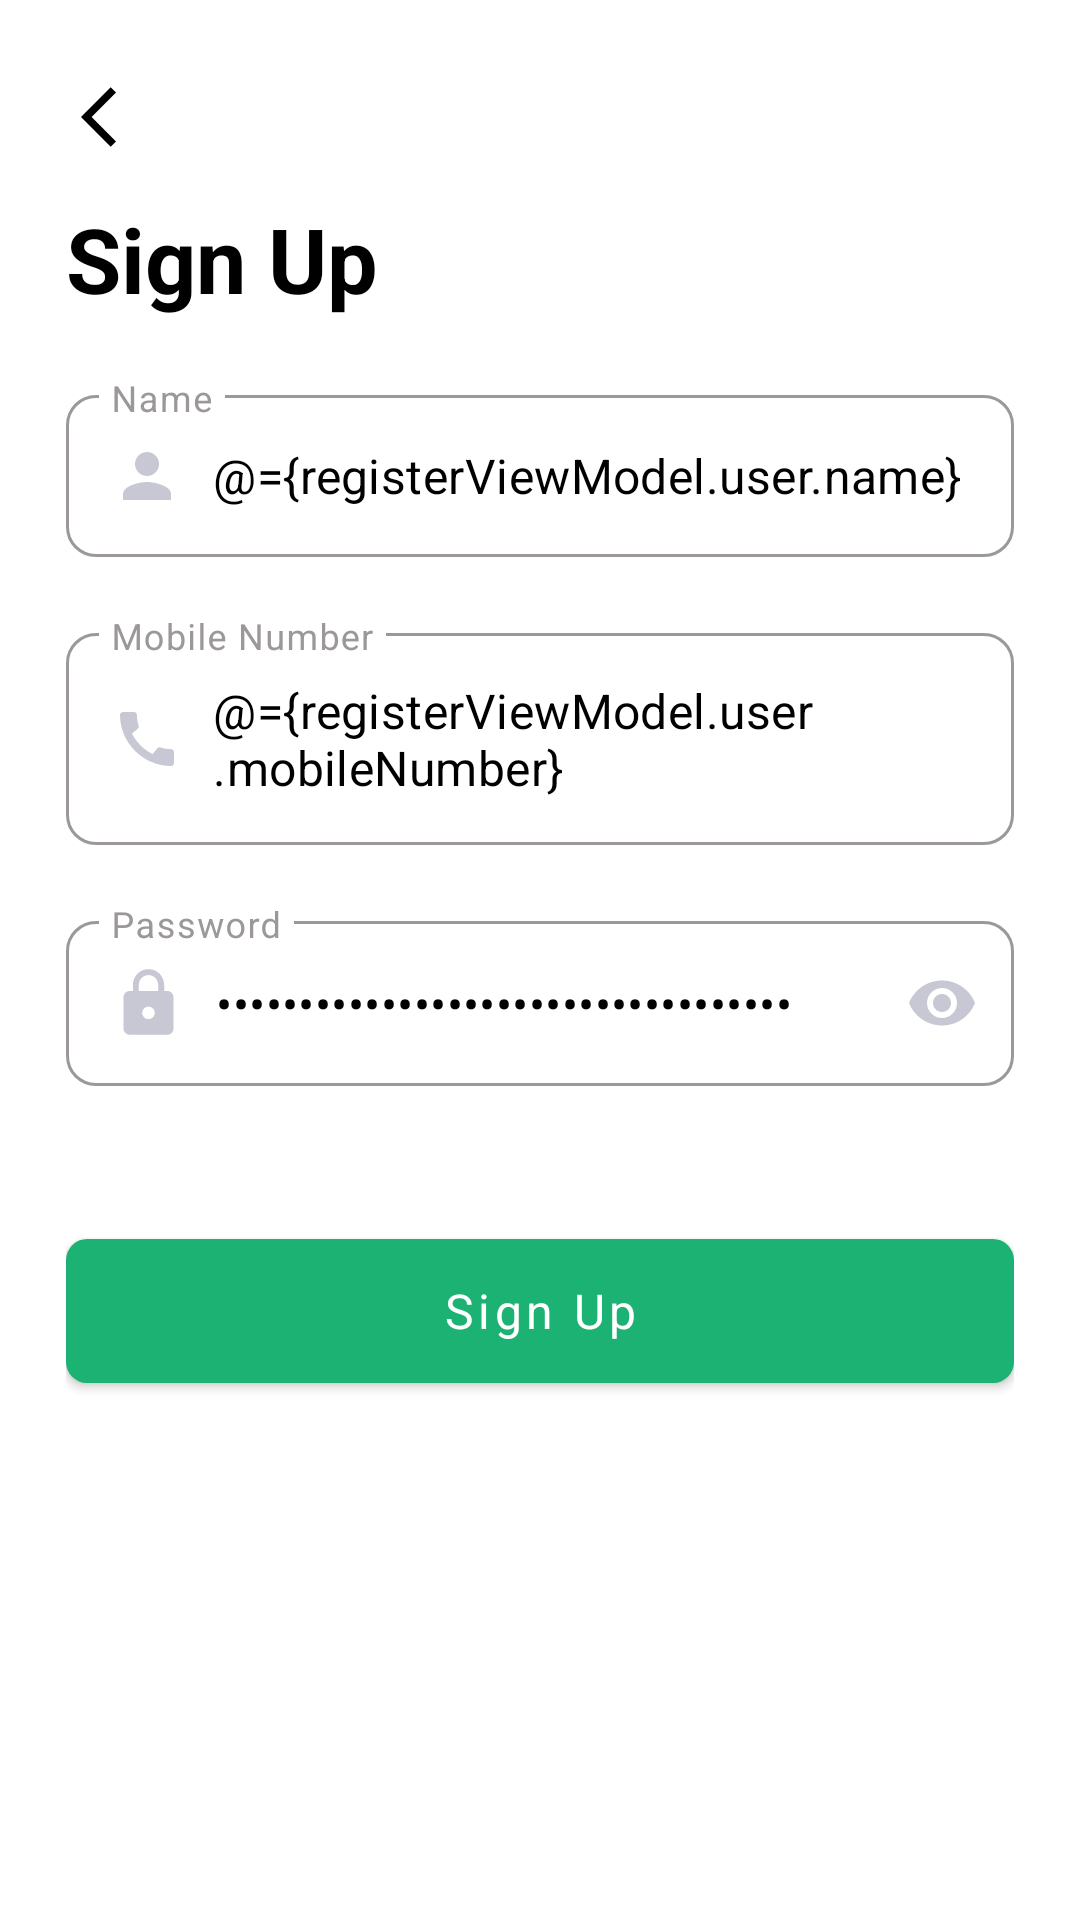

Where to tap for icons on this 1080w x 1920h app screen, as (x,y):
arrow back: (98,117)
